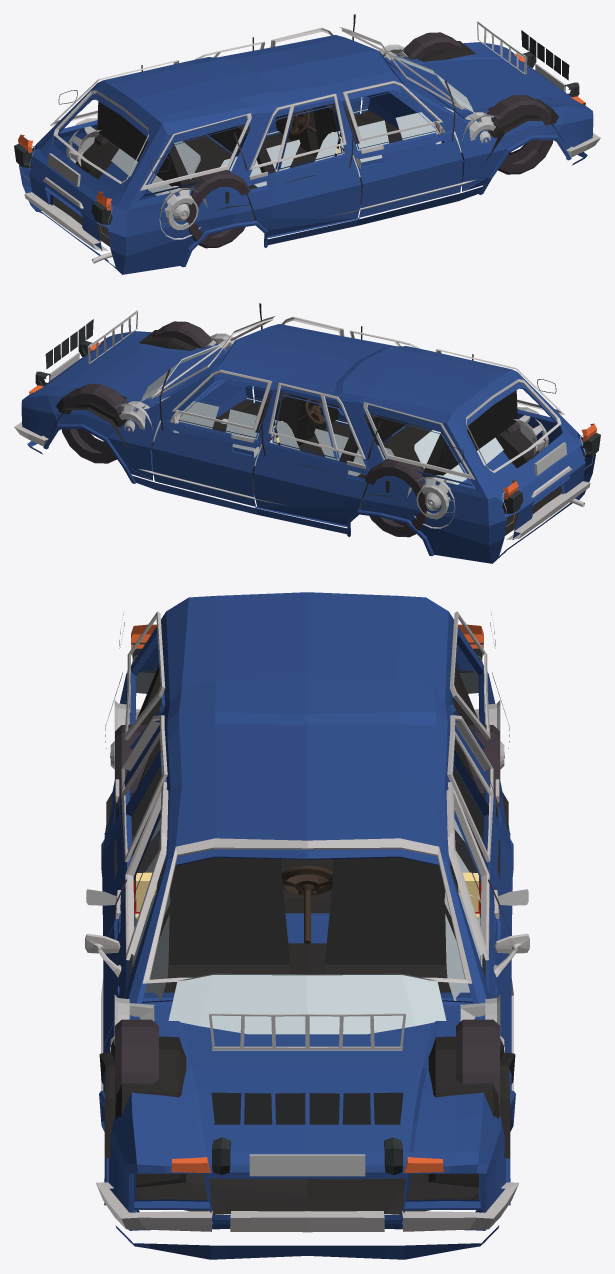
Rendered from car-504-break.glb.
The picture shows the model from 3 angles, top to bottom: view 1: azimuth 30°, elevation 25°; view 2: azimuth 150°, elevation 25°; view 3: azimuth 270°, elevation 25°; orthographic projection. The views are drawn at different scales.
Parts seen in each view (by area): view 1: Object_11, Object_8, Object_13, Object_14, Object_10, Object_15, Object_6, Object_7, Object_3, Object_2; view 2: Object_11, Object_8, Object_13, Object_14, Object_10, Object_15, Object_6, Object_7, Object_3, Object_2; view 3: Object_11, Object_8, Object_13, Object_10, Object_14, Object_6, Object_15, Object_7, Object_3, Object_2, Object_9, Object_12.
Boxes of the visible parts, x1,y1,x2,y2 form: Object_11: (19,35,593,274); Object_8: (53,41,562,246); Object_13: (21,27,600,263); Object_14: (58,14,553,248); Object_10: (111,55,474,195); Object_15: (66,21,527,239); Object_6: (14,30,579,224); Object_7: (48,64,565,186); Object_3: (18,53,585,210); Object_2: (289,110,316,135); Object_11: (21,324,595,563); Object_8: (52,330,561,535); Object_13: (14,316,593,539); Object_14: (61,303,556,537); Object_10: (140,344,503,484); Object_15: (87,310,548,528); Object_6: (35,319,600,513); Object_7: (49,353,566,475); Object_3: (29,342,596,499); Object_2: (298,399,325,424); Object_11: (99,592,515,1259); Object_8: (99,664,515,1214); Object_13: (85,611,529,1232); Object_10: (132,819,482,1034); Object_14: (104,611,510,1116); Object_6: (131,642,483,1174); Object_15: (110,700,504,1052); Object_7: (249,1154,365,1176); Object_3: (131,624,483,1173); Object_2: (282,866,332,943); Object_9: (135,872,479,919); Object_12: (86,889,528,905).
Size of the model in its own units: 410085 by 106505 by 158152.
